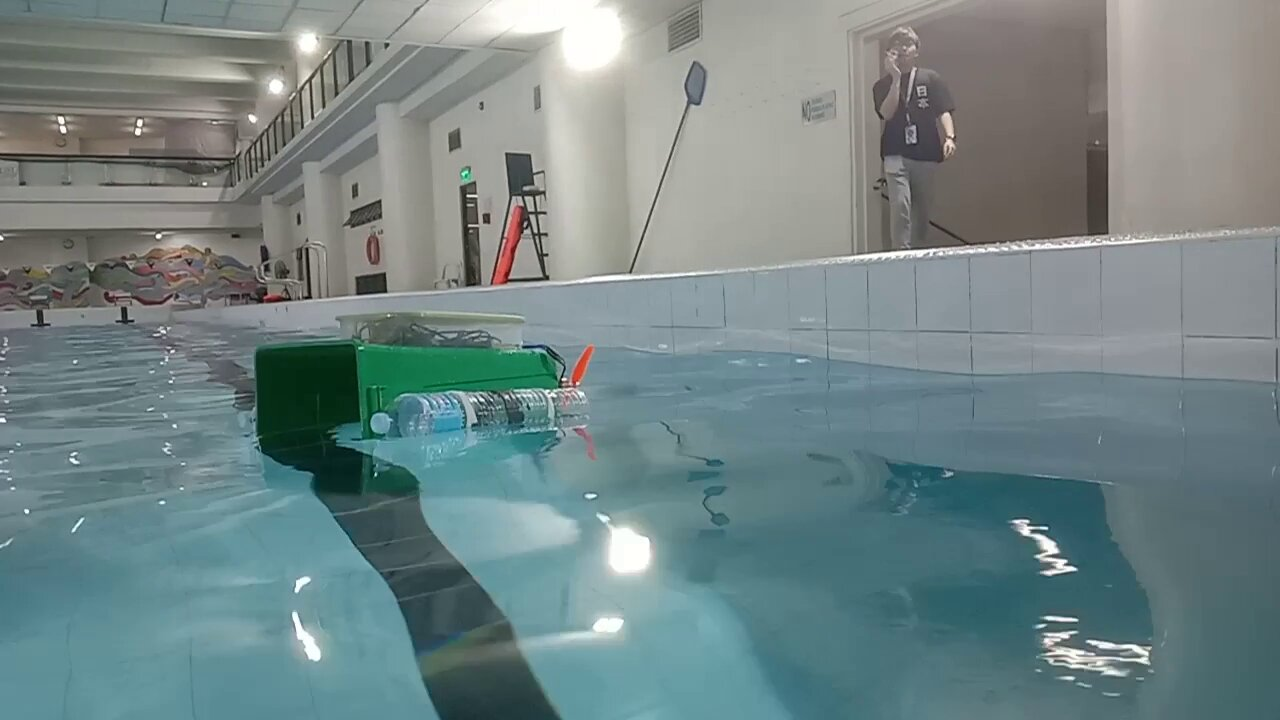drone: (254, 312, 595, 440)
